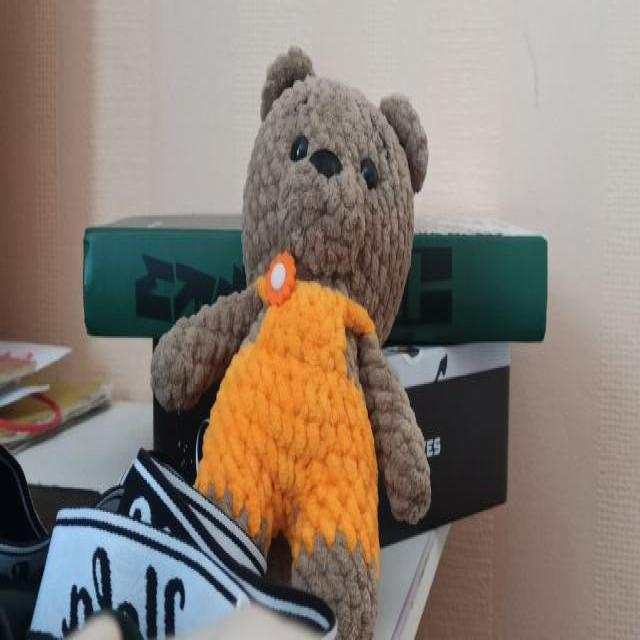book: (84, 226, 546, 347)
